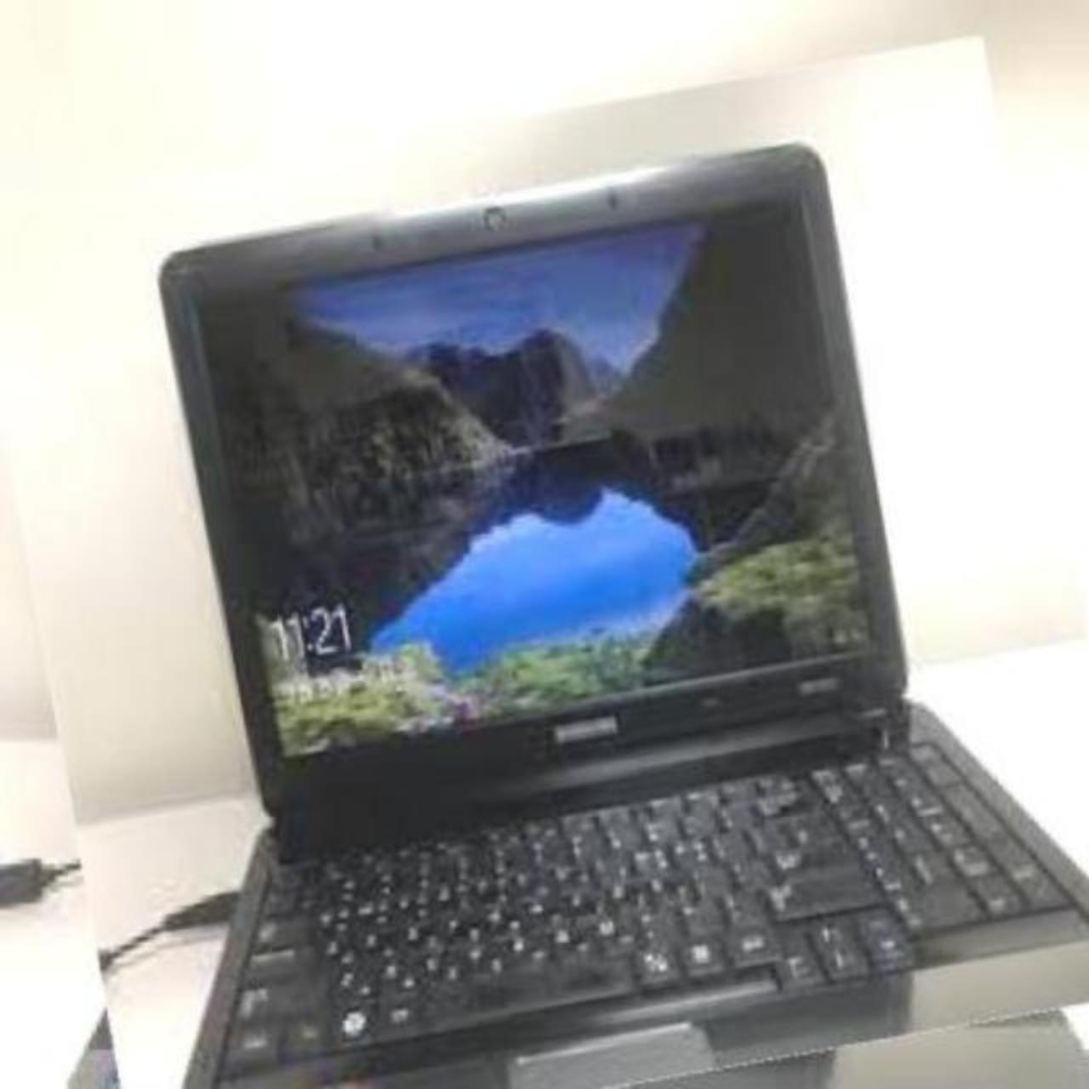laptop: (3, 76, 1089, 1088)
